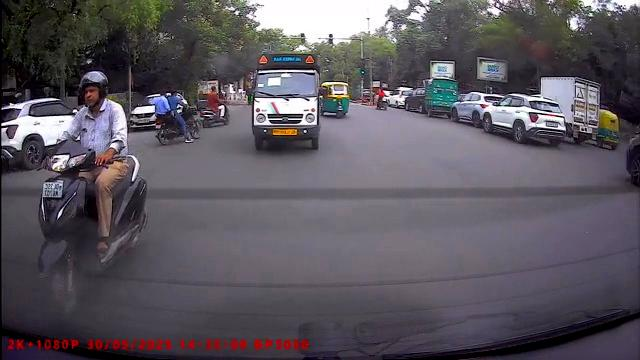motorcycle_with_helmet: (34, 68, 150, 316)
motorcycle_without_helmet: (154, 88, 201, 143), (201, 86, 231, 129)
